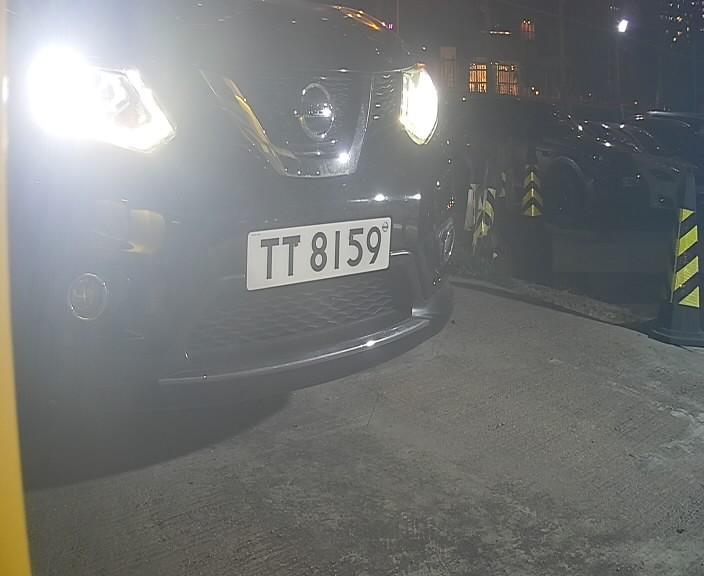Car: (16, 24, 538, 430)
License Plate: (233, 206, 397, 294)
